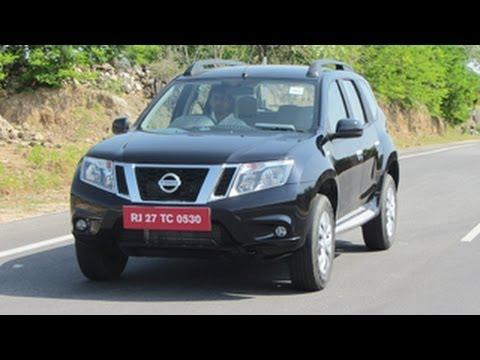License-Plate: (119, 201, 214, 231)
